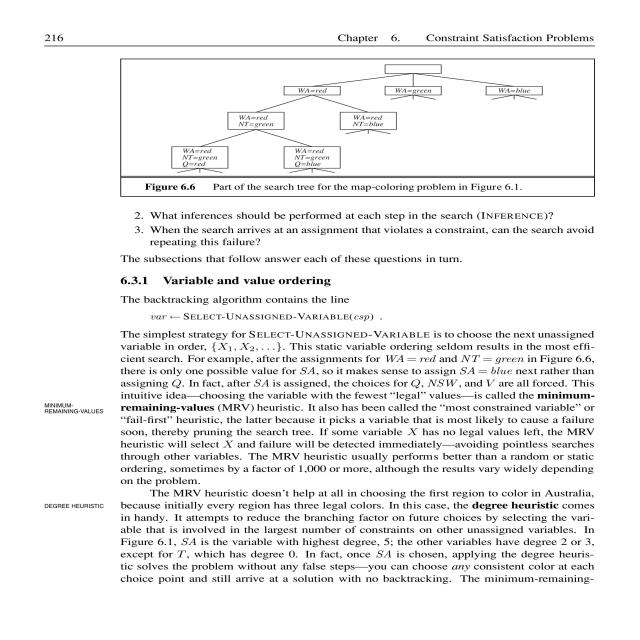diagram: (120, 58, 590, 196)
